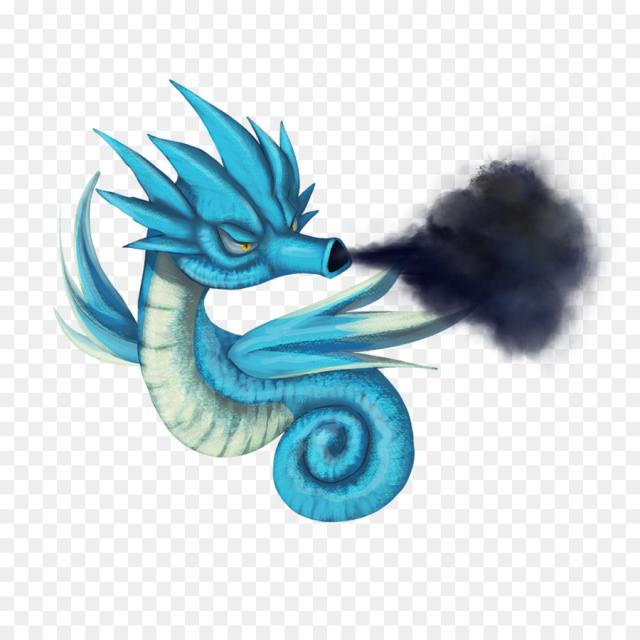Seadra: (117, 78, 396, 536)
